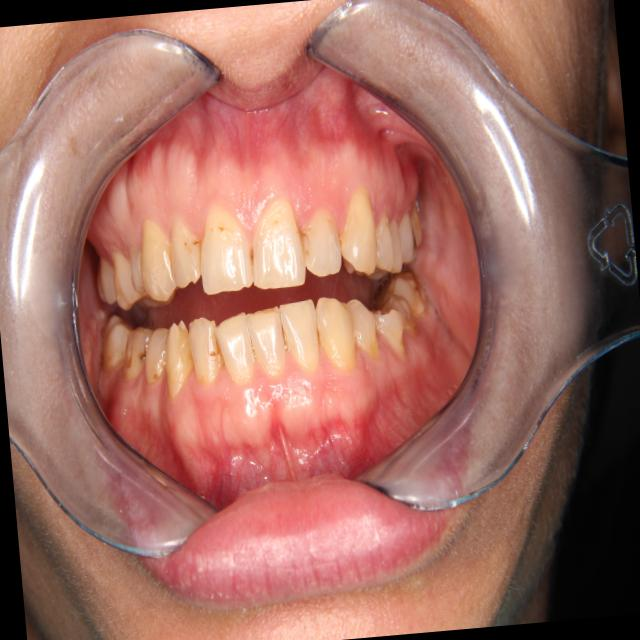tooth: (240, 193, 310, 296), (191, 199, 257, 299), (329, 178, 384, 282), (132, 212, 183, 308), (239, 299, 292, 386), (312, 289, 361, 380), (209, 302, 258, 392), (160, 206, 211, 292), (157, 309, 203, 402), (278, 289, 324, 379), (298, 202, 349, 281), (342, 289, 388, 372), (184, 307, 228, 390), (372, 265, 432, 323), (115, 320, 160, 388), (94, 310, 139, 375), (368, 301, 411, 367), (106, 240, 143, 312), (139, 324, 178, 386), (391, 198, 422, 269), (91, 249, 127, 308), (368, 205, 397, 276), (383, 290, 420, 343), (124, 234, 151, 298), (383, 212, 406, 278), (409, 198, 426, 248)
